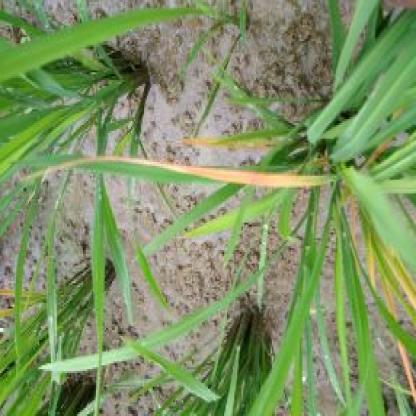Tungro: (78, 152, 325, 197)
